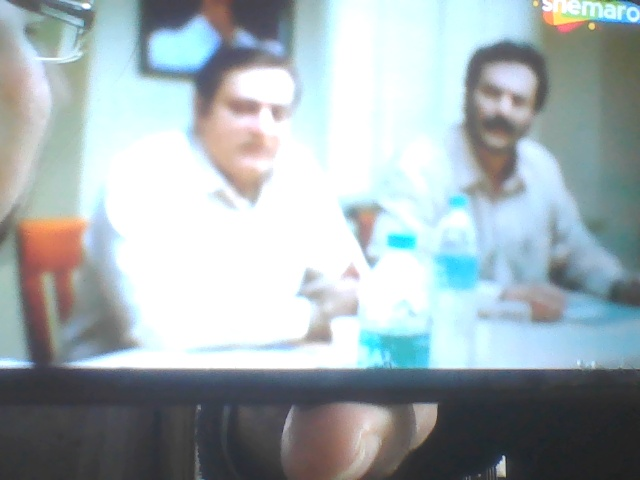fake: (188, 18, 309, 189)
